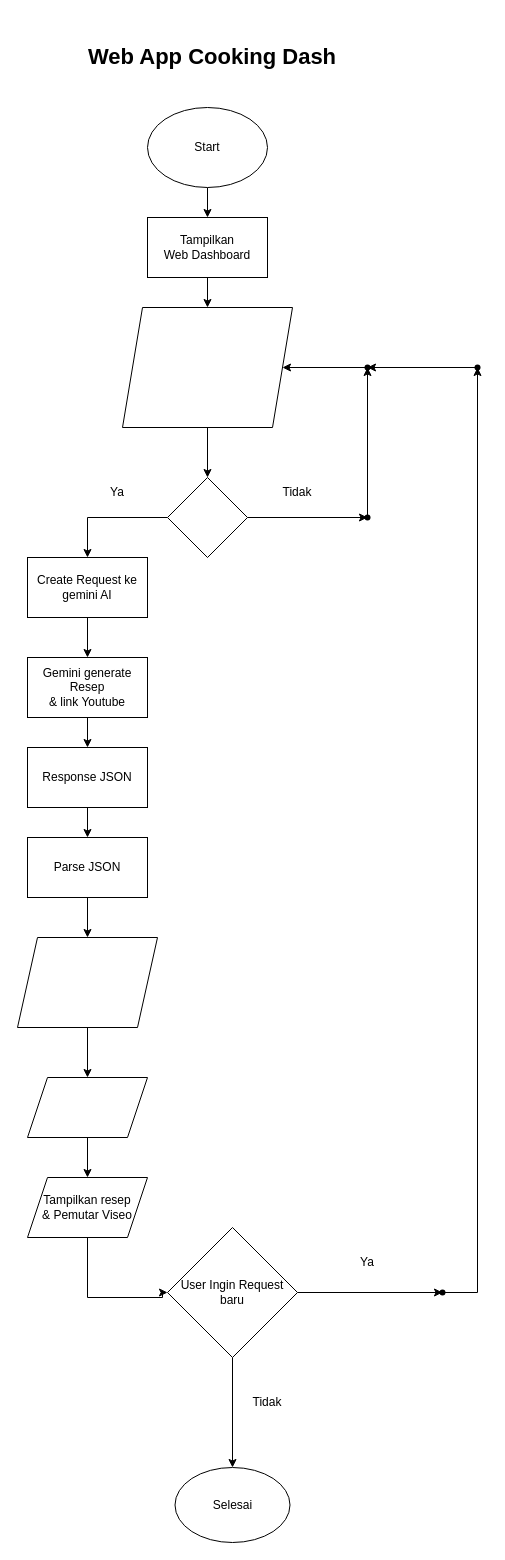
This 505x1560 diagram has some shape labels left out. Each missing label, with the centre of its shape:
"Klik" belongs at (x=207, y=517).
"Tampilkan List Resep & Youtube" belongs at (x=87, y=982).
"User Isi Prompt : 1. Bahan Masakah 2. Makanan yang ingin di masak" belongs at (x=207, y=367).
"User Pilih Resep" belongs at (x=87, y=1107).
